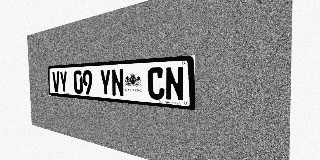0: (73, 70, 83, 94)
9: (82, 70, 93, 95)
C: (147, 67, 165, 100)
N: (165, 66, 184, 102), (111, 69, 124, 97)
V: (52, 71, 60, 92)
Y: (99, 69, 111, 96), (59, 71, 68, 93)
